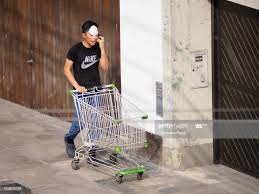mask_weared_incorrect: (78, 22, 100, 47)
